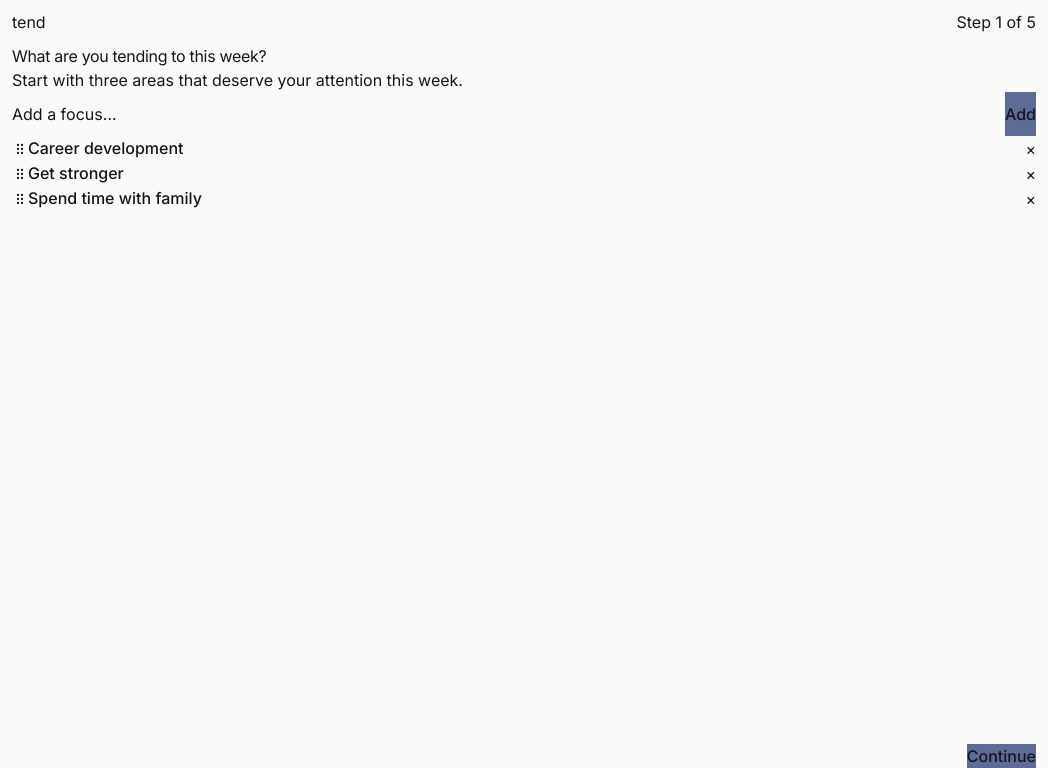
Test: TendFlow › does not carry an unsent action draft to the next focus
Click the button "Continue" at (1001, 756), box [967,744,1036,767]
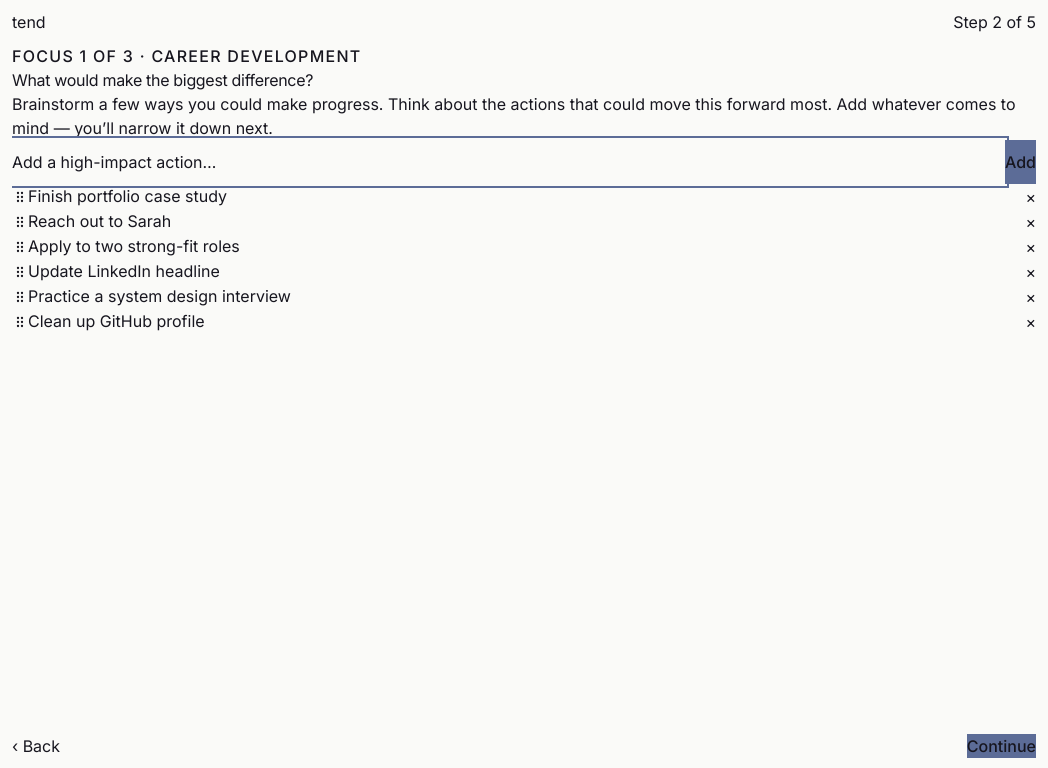
Type "leftover draft" into the field named "Add an action" at (508, 162), box [12,140,1005,184]
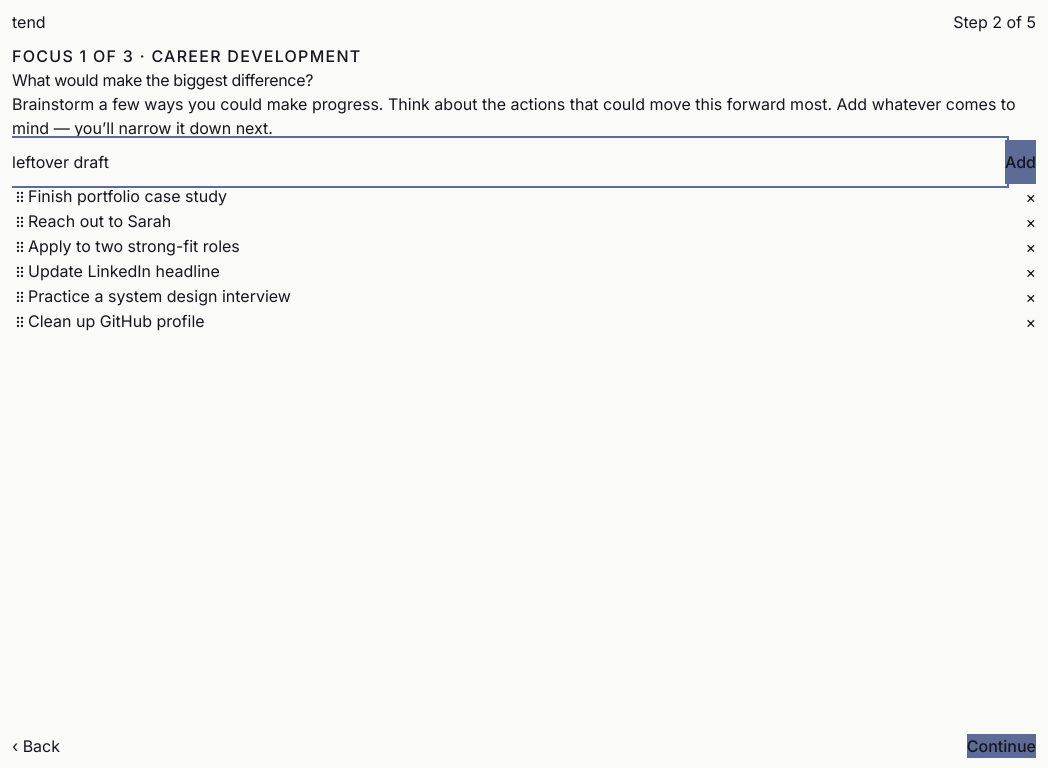
Click the button "Continue" at (1001, 746), box [967,734,1036,758]
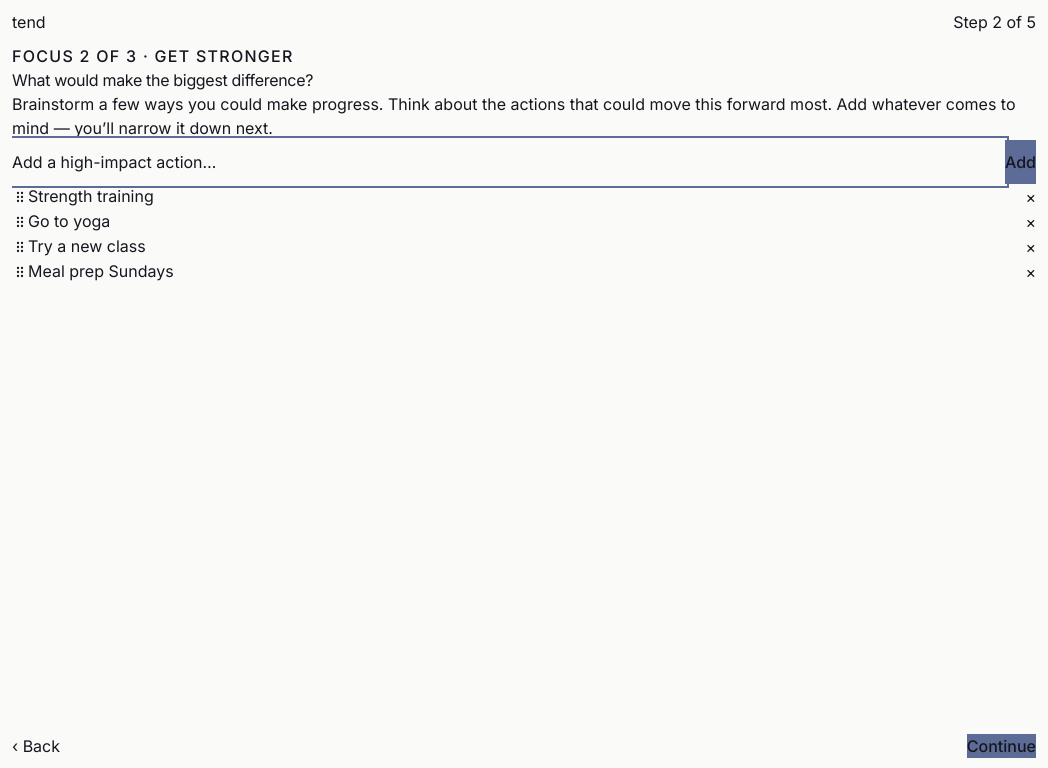
expect the field named "Add an action" is empty: met, box [12,140,1005,184]
expect the text "Focus 2 of 3 · Get stronger" is shown: met, box [12,44,294,68]
